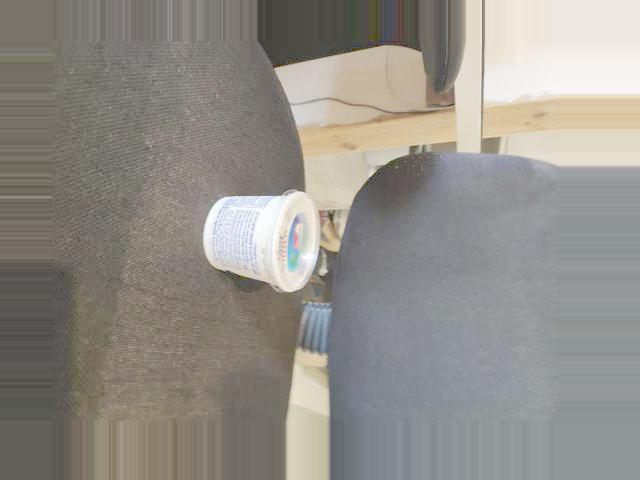cotage: (202, 200, 328, 288)
